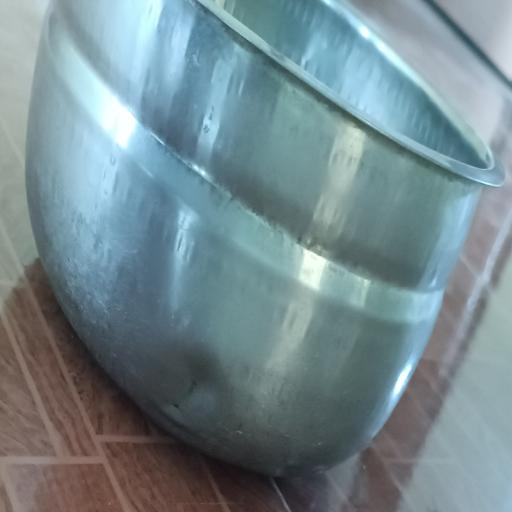vessel: (26, 0, 502, 474)
